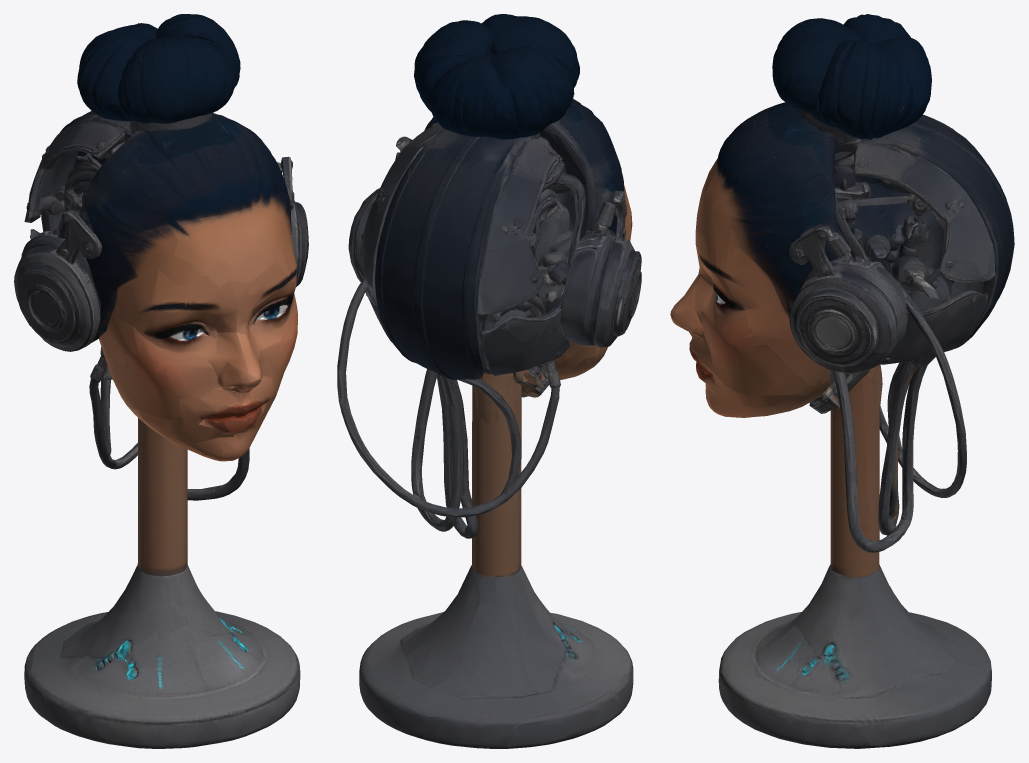
The model's file is ZEROX-head.glb.
3 views of the same model, side by side, from view 1: azimuth 30°, elevation 25°; view 2: azimuth 150°, elevation 25°; view 3: azimuth 270°, elevation 25° (orthographic).
Visible parts, largest first — view 1: mesh_node; view 2: mesh_node; view 3: mesh_node.
Part boxes in pixels (x1,y1,x2,y2): mesh_node: (14, 14, 308, 748); mesh_node: (337, 14, 641, 748); mesh_node: (670, 14, 1014, 748).
Bounding box in the file's own units: 0.8186 × 1.9 × 0.8918.
1 material, 1 textured.
